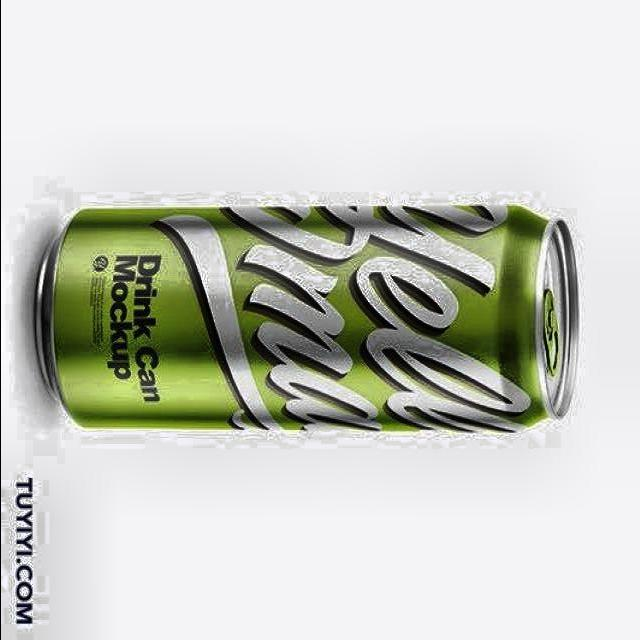Aluminum Can: (30, 197, 587, 442)
